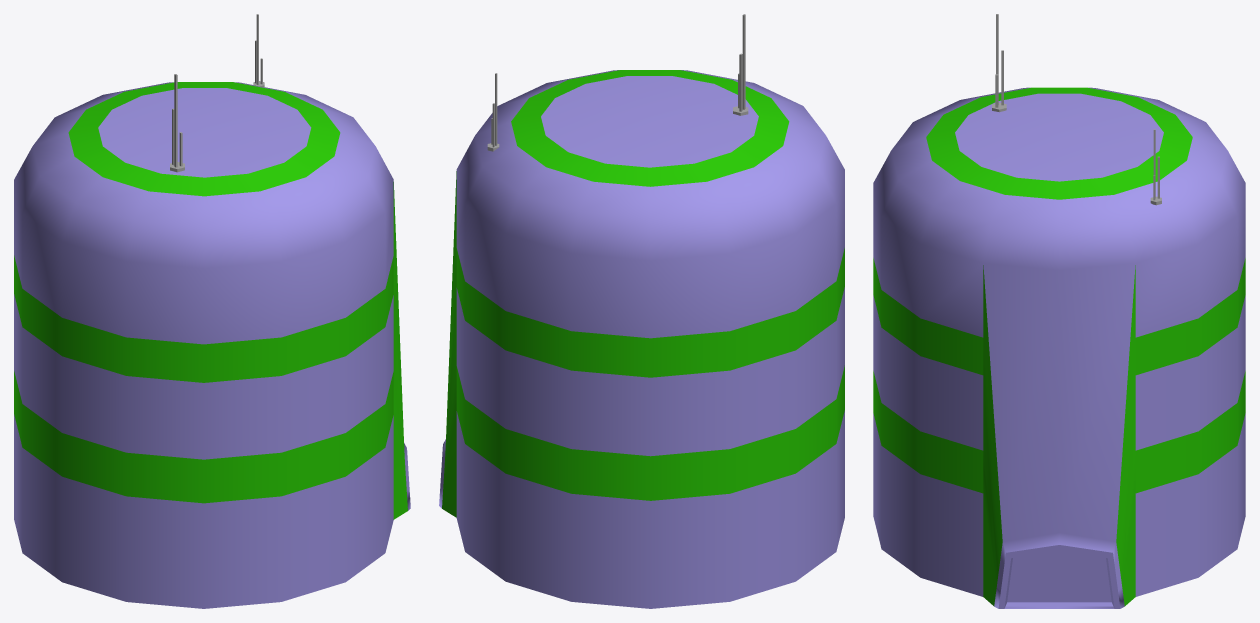
The model's file is CityBuilding1.fbx.
The picture shows the model from 3 angles, left to right: view 1: azimuth 30°, elevation 25°; view 2: azimuth 150°, elevation 25°; view 3: azimuth 270°, elevation 25°; orthographic projection. The views are drawn at different scales.
Visible parts, largest first — view 1: pCylinder25; view 2: pCylinder25; view 3: pCylinder25.
Boxes of the visible parts, <box> form: pCylinder25: <box>14,14,410,608</box>; pCylinder25: <box>439,14,844,608</box>; pCylinder25: <box>873,14,1245,608</box>.
Size of the model in its own units: 439 by 611 by 428.
